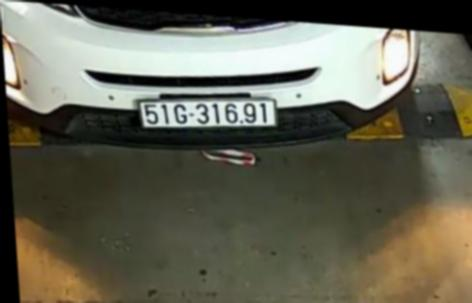License_Plate: (133, 90, 281, 136)
